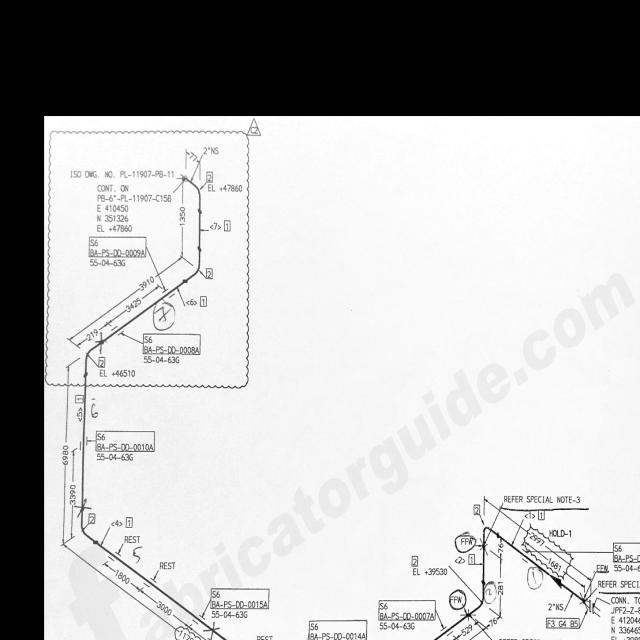Item number: (94, 428, 158, 455), (87, 234, 148, 261), (210, 586, 272, 611), (377, 599, 437, 624), (142, 332, 201, 357), (308, 619, 369, 640), (612, 539, 640, 564), (544, 615, 582, 630), (124, 515, 135, 530), (205, 266, 215, 281), (536, 508, 546, 523), (74, 392, 85, 405), (97, 356, 107, 370), (410, 554, 420, 568), (199, 294, 208, 309), (468, 552, 477, 567), (223, 218, 231, 234), (205, 170, 214, 184), (473, 502, 481, 517), (88, 512, 96, 526)
Measrement: (67, 255, 186, 343), (484, 494, 593, 586), (523, 538, 587, 595), (106, 282, 163, 327), (136, 587, 194, 631), (59, 361, 71, 547), (99, 559, 143, 594), (75, 320, 113, 350), (467, 613, 504, 639), (69, 444, 77, 542), (179, 178, 187, 259), (454, 618, 484, 639), (496, 556, 505, 619), (184, 146, 202, 169), (202, 143, 222, 158), (142, 575, 159, 588), (497, 534, 505, 561), (546, 602, 564, 612)
Pipeline: (77, 170, 235, 639), (425, 519, 608, 639)
Symbol: (460, 577, 491, 621), (81, 337, 107, 379), (77, 504, 101, 546), (181, 174, 204, 216), (181, 245, 203, 285), (479, 521, 502, 555), (579, 591, 603, 619), (548, 570, 565, 590), (106, 550, 122, 563), (109, 325, 125, 336), (161, 288, 175, 299)
Weld number: (453, 531, 477, 555)
other: (69, 167, 174, 233), (598, 577, 640, 640), (141, 353, 181, 366), (96, 452, 135, 462), (212, 610, 250, 620), (412, 568, 449, 578), (380, 622, 417, 632), (88, 259, 129, 268), (111, 369, 138, 379), (220, 183, 244, 194), (612, 564, 640, 573)
